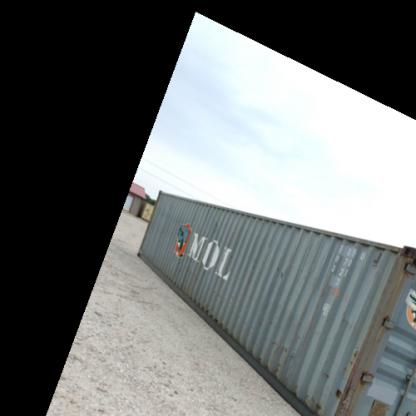Damage: (174, 216, 219, 294), (249, 327, 304, 378), (344, 343, 367, 371), (271, 261, 294, 283), (306, 393, 324, 411), (336, 383, 348, 399), (322, 368, 334, 380)
